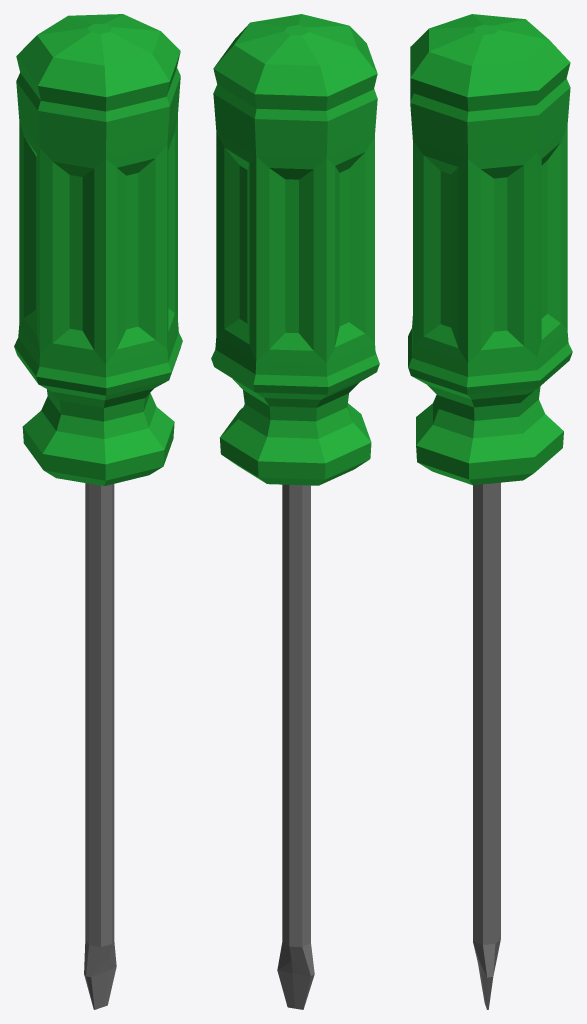
File: cshuzo.fbx
The picture shows the model from 3 angles, left to right: view 1: azimuth 30°, elevation 25°; view 2: azimuth 150°, elevation 25°; view 3: azimuth 270°, elevation 25°; orthographic projection.
Visible parts, largest first — view 1: nyel, CsHuzo; view 2: nyel, CsHuzo; view 3: nyel, CsHuzo.
Boxes of the visible parts, x1,y1,x2,y2 form: nyel: (14, 14, 182, 486); CsHuzo: (84, 483, 116, 1009); nyel: (211, 14, 379, 485); CsHuzo: (277, 484, 314, 1009); nyel: (408, 14, 572, 485); CsHuzo: (473, 482, 500, 1009).
Bounding box in the file's own units: 4.88 × 5.01 × 31.92.
